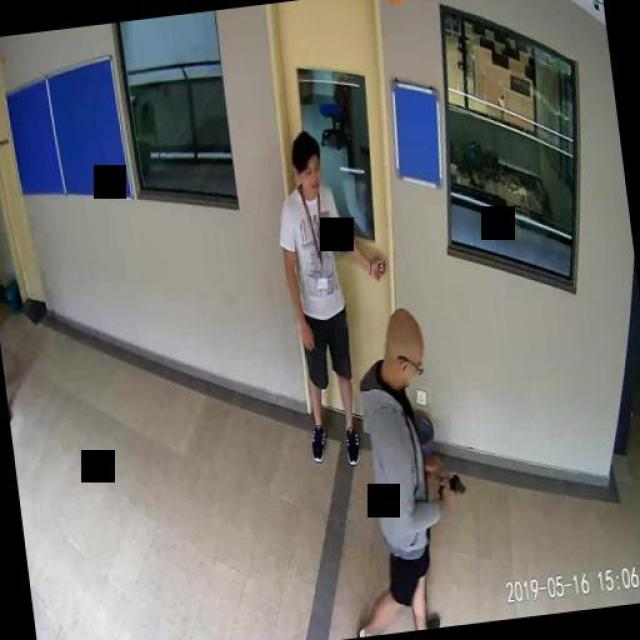gun: (436, 468, 466, 507)
